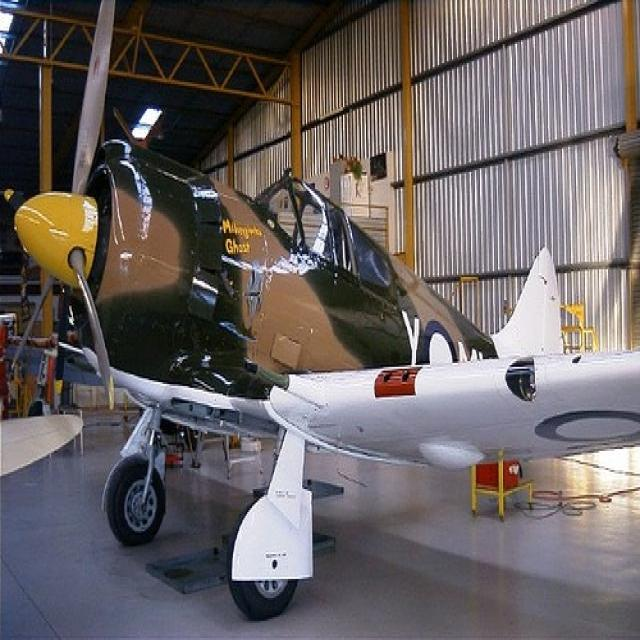aeroplane: (1, 2, 639, 623)
